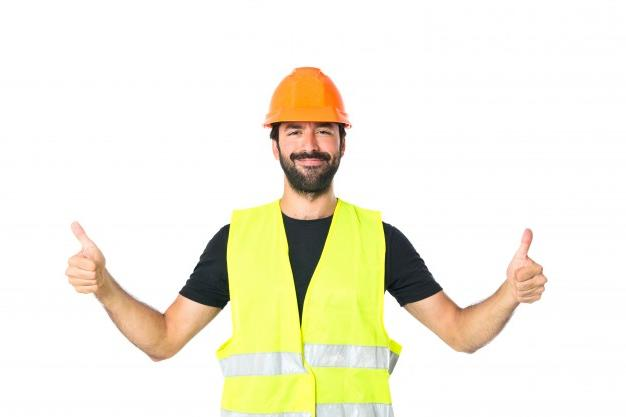thumbsup: (512, 227, 547, 304), (65, 221, 100, 294)
